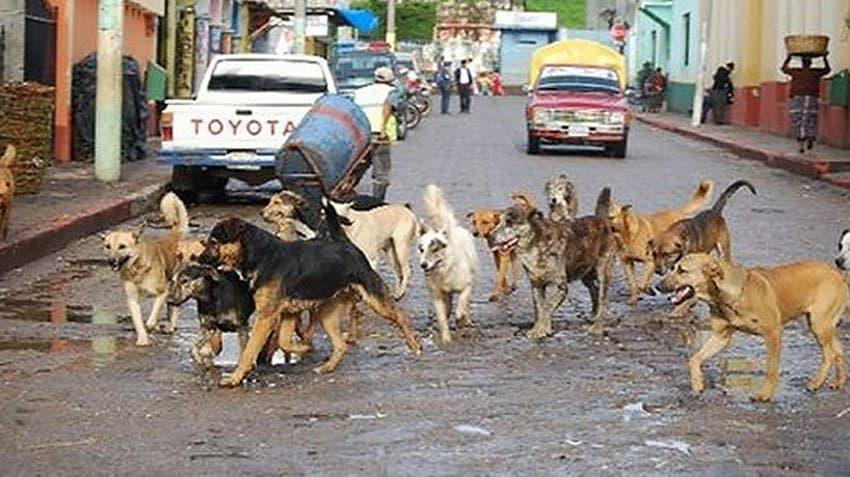normal_dogs: (202, 214, 430, 384), (655, 252, 850, 404), (498, 201, 628, 342), (590, 190, 718, 302), (104, 188, 198, 337), (320, 190, 430, 299), (174, 254, 280, 364), (649, 178, 760, 282), (413, 181, 481, 350), (261, 188, 405, 249), (465, 193, 546, 288), (0, 138, 25, 242), (540, 172, 586, 222), (834, 223, 850, 306)
